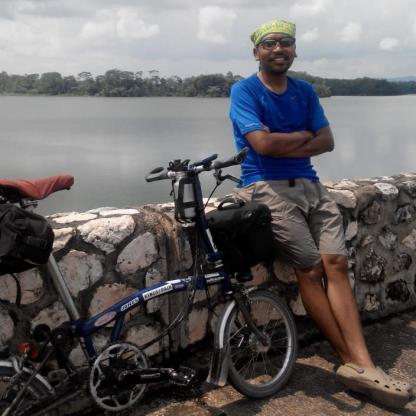Bike: (0, 160, 287, 416)
